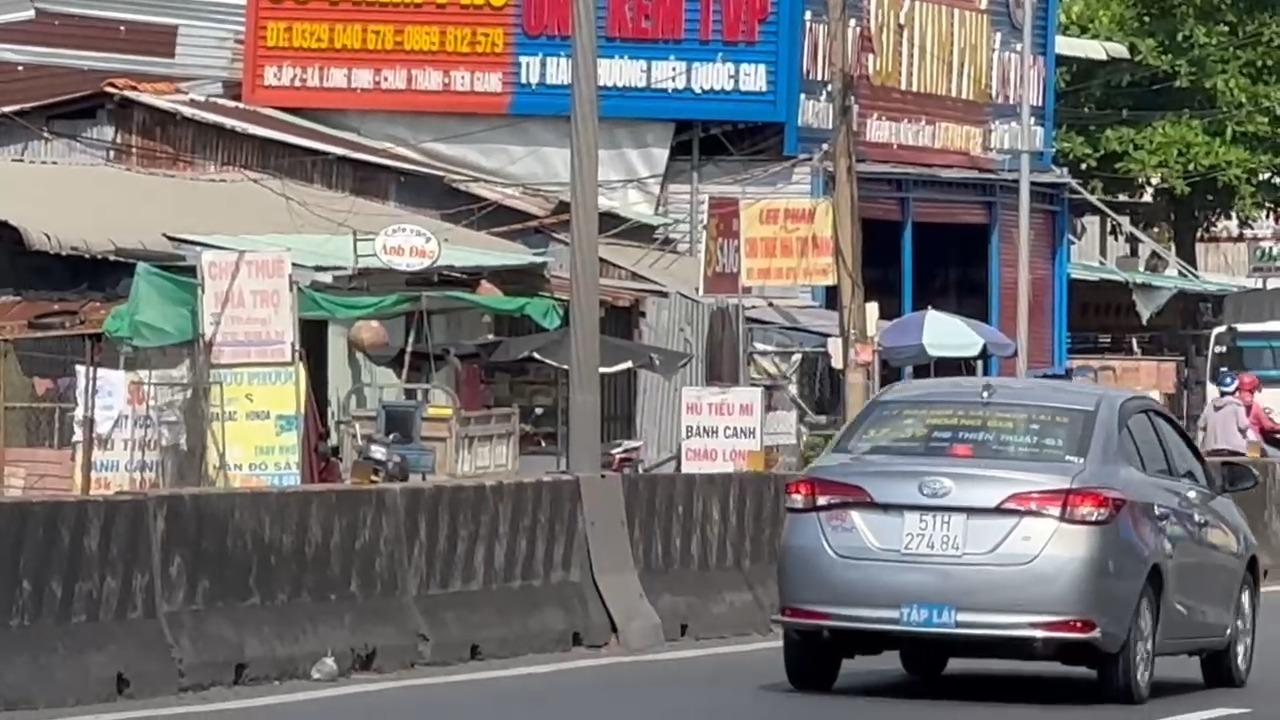bien_so: (899, 509, 966, 557)
